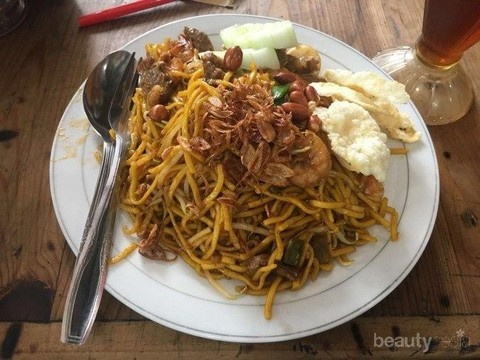mie_aceh: (123, 41, 406, 303)
